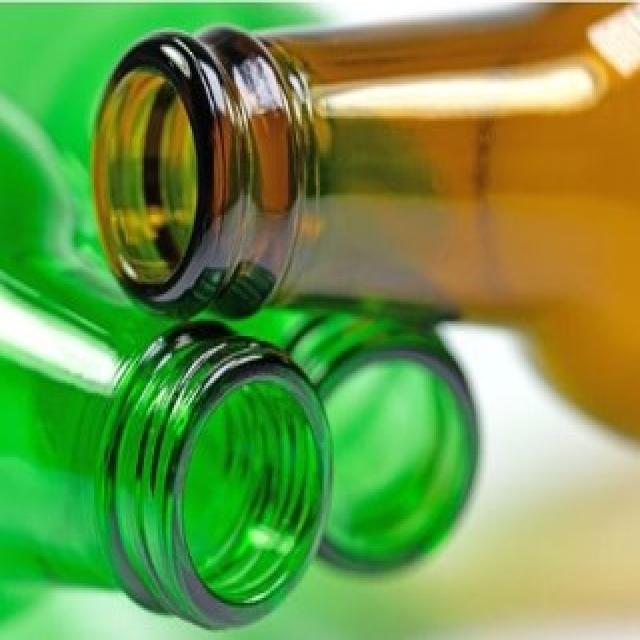electronic: (94, 15, 640, 474), (0, 83, 338, 640)
